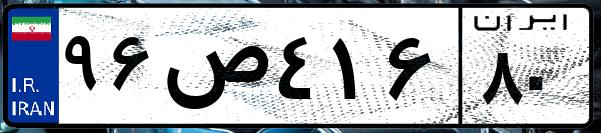0: (525, 38, 570, 115)
1: (330, 28, 385, 110)
4: (270, 28, 330, 110)
6: (385, 28, 445, 110), (110, 28, 158, 98)
8: (475, 38, 525, 113)
9: (57, 26, 110, 100)
ص: (158, 20, 270, 120)
